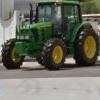Tractor: (5, 2, 94, 77)
